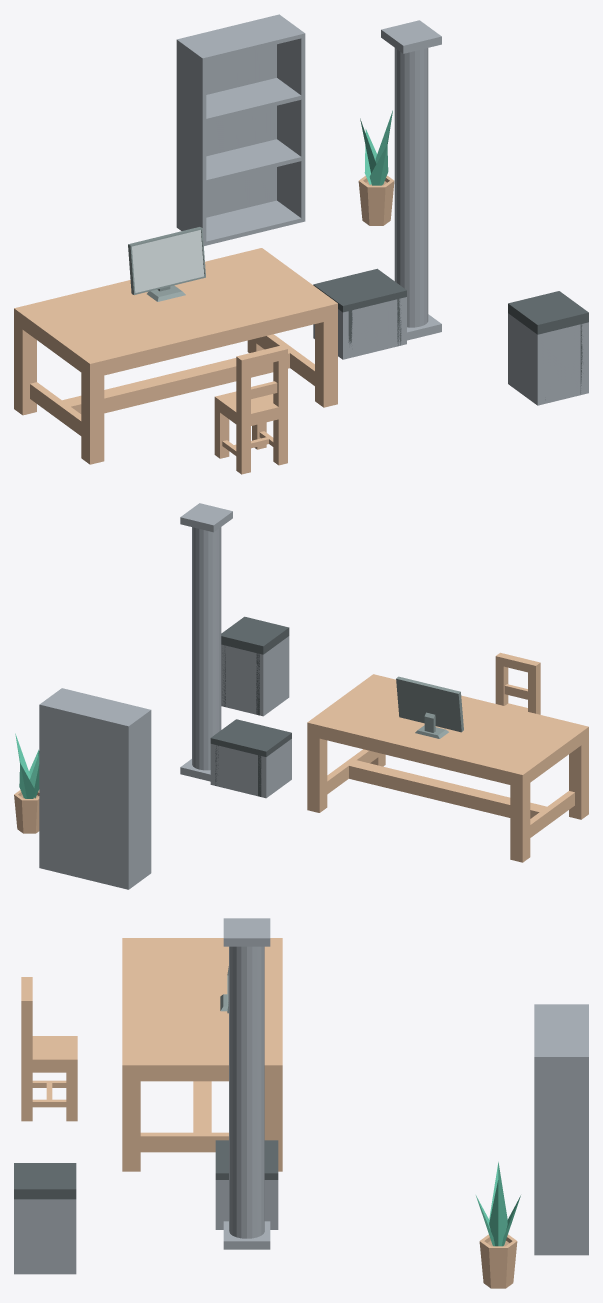
The picture shows the model from 3 angles, top to bottom: view 1: azimuth 30°, elevation 25°; view 2: azimuth 150°, elevation 25°; view 3: azimuth 270°, elevation 25°; orthographic projection. The views are drawn at different scales.
Visible parts, largest first — view 1: table_green__table(Clone), column_cyan__column_cyan shaft, shelf_orange__shelf_orange back, chair_cyan__chair(Clone), bin_gray__bin_gray shell, shelf_orange__shelf_orange side_l, shelf_orange__shelf_orange side_r, monitor_gray__computerScreen(Clone), crate_red__crate_red shell, shelf_orange__shelf_orange board3, shelf_orange__shelf_orange board2, shelf_orange__shelf_orange board0 (+6 smaller); view 2: table_green__table(Clone), shelf_orange__shelf_orange back, column_cyan__column_cyan shaft, shelf_orange__shelf_orange side_l, bin_gray__bin_gray shell, crate_red__crate_red shell, monitor_gray__computerScreen(Clone), chair_cyan__chair(Clone), crate_red__crate_red lid, shelf_orange__shelf_orange board3, bin_gray__bin_gray lid, column_cyan__column_cyan capital (+3 smaller); view 3: table_green__table(Clone), shelf_orange__shelf_orange side_r, column_cyan__column_cyan shaft, bin_gray__bin_gray shell, chair_cyan__chair(Clone), shelf_orange__shelf_orange board3, bin_gray__bin_gray lid, plant_pink__pottedPlant(Clone), column_cyan__column_cyan capital, crate_red__crate_red shell, plant_pink__plant, crate_red__crate_red lid (+1 smaller).
Part boxes in pixels (<box>): table_green__table(Clone): <box>14,248,337,464</box>; column_cyan__column_cyan shaft: <box>394,48,428,327</box>; shelf_orange__shelf_orange back: <box>181,15,276,217</box>; chair_cyan__chair(Clone): <box>214,345,287,474</box>; bin_gray__bin_gray shell: <box>508,313,588,405</box>; shelf_orange__shelf_orange side_l: <box>176,38,206,245</box>; shelf_orange__shelf_orange side_r: <box>276,14,305,222</box>; monitor_gray__computerScreen(Clone): <box>128,227,205,301</box>; crate_red__crate_red shell: <box>313,297,406,359</box>; shelf_orange__shelf_orange board3: <box>182,16,301,61</box>; shelf_orange__shelf_orange board2: <box>206,78,301,122</box>; shelf_orange__shelf_orange board0: <box>206,200,301,245</box>; table_green__table(Clone): <box>307,674,588,862</box>; shelf_orange__shelf_orange back: <box>42,704,126,888</box>; column_cyan__column_cyan shaft: <box>192,527,221,770</box>; shelf_orange__shelf_orange side_l: <box>125,709,151,889</box>; bin_gray__bin_gray shell: <box>221,636,289,716</box>; crate_red__crate_red shell: <box>210,739,291,798</box>; monitor_gray__computerScreen(Clone): <box>396,676,463,738</box>; chair_cyan__chair(Clone): <box>495,652,540,714</box>; crate_red__crate_red lid: <box>210,719,291,756</box>; shelf_orange__shelf_orange board3: <box>44,689,147,724</box>; bin_gray__bin_gray lid: <box>221,616,289,654</box>; column_cyan__column_cyan capital: <box>180,503,232,532</box>; table_green__table(Clone): <box>122,938,282,1171</box>; shelf_orange__shelf_orange side_r: <box>534,1055,588,1255</box>; column_cyan__column_cyan shaft: <box>229,946,264,1238</box>; bin_gray__bin_gray shell: <box>14,1199,76,1274</box>; chair_cyan__chair(Clone): <box>21,977,77,1121</box>; shelf_orange__shelf_orange board3: <box>534,1006,585,1054</box>; bin_gray__bin_gray lid: <box>14,1163,76,1199</box>; plant_pink__pottedPlant(Clone): <box>479,1234,517,1288</box>; column_cyan__column_cyan capital: <box>223,918,270,946</box>; crate_red__crate_red shell: <box>215,1180,278,1229</box>; plant_pink__plant: <box>476,1162,520,1246</box>; crate_red__crate_red lid: <box>215,1140,278,1179</box>.
Bounding box in the file's own units: 3.75 × 2.2 × 3.68.
